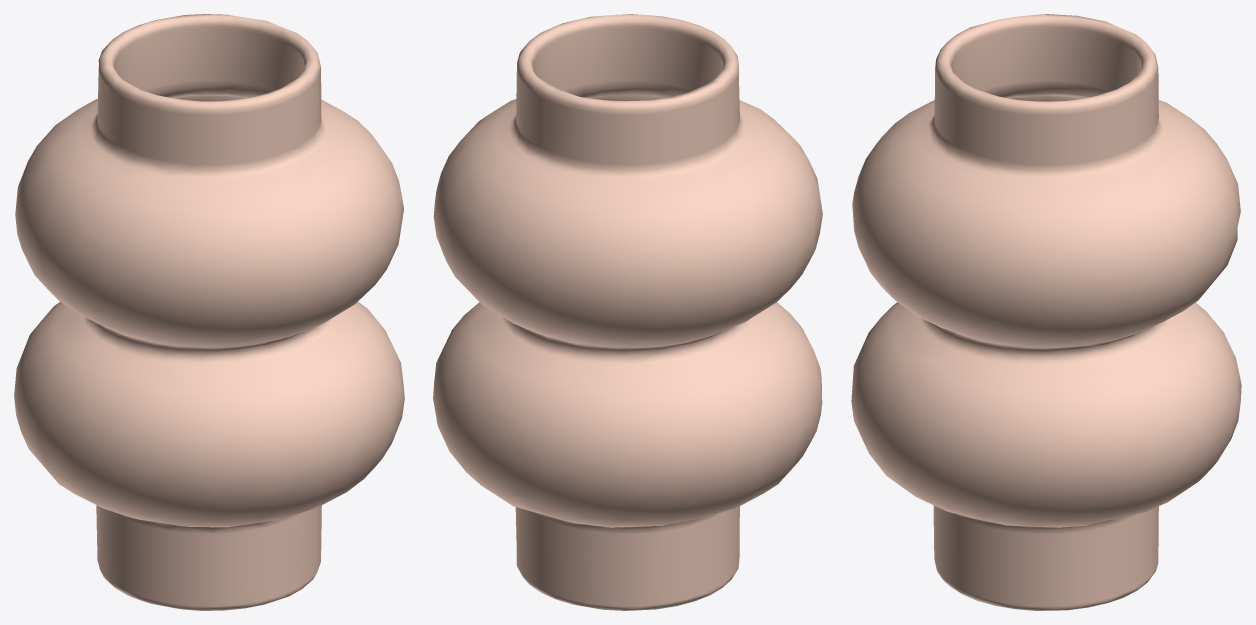
The model's file is parlhagg_wazon_30637725.glb.
3 renders of one model, left to right at view 1: azimuth 30°, elevation 25°; view 2: azimuth 150°, elevation 25°; view 3: azimuth 270°, elevation 25°, orthographic.
Parts seen in each view (by area): view 1: parlhagg_wazon_30637725; view 2: parlhagg_wazon_30637725; view 3: parlhagg_wazon_30637725.
Part boxes in pixels (x1,y1,x2,y2): parlhagg_wazon_30637725: (14, 14, 404, 610); parlhagg_wazon_30637725: (433, 14, 822, 610); parlhagg_wazon_30637725: (851, 14, 1241, 610).
Size of the model in its own units: 0.099 by 0.1415 by 0.0985.
2 materials, 2 textured.
